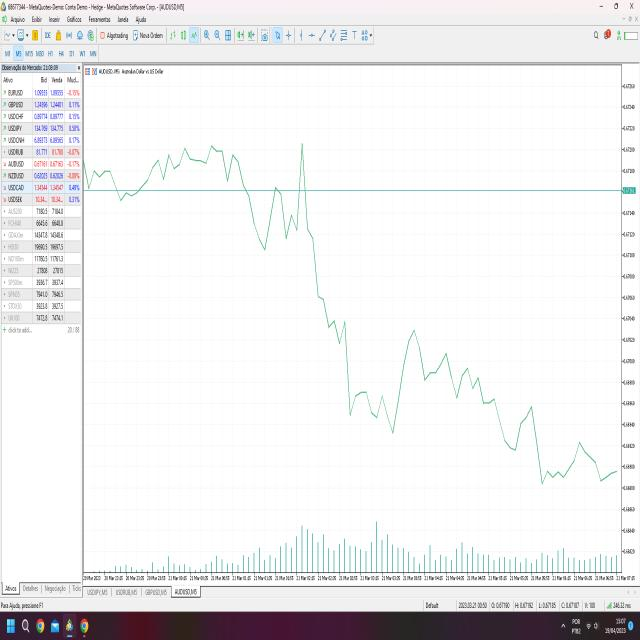bandeira_baixa: (339, 272, 387, 428)
